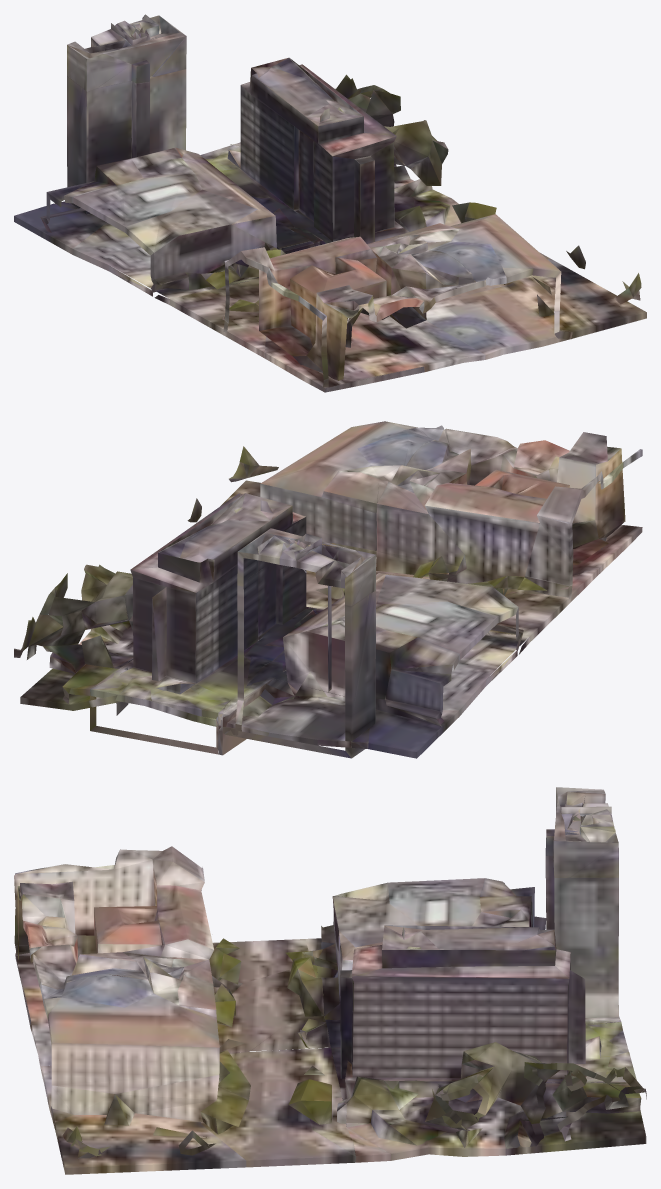
The picture shows the model from 3 angles, top to bottom: view 1: azimuth 30°, elevation 25°; view 2: azimuth 150°, elevation 25°; view 3: azimuth 270°, elevation 25°; orthographic projection. The views are drawn at different scales.
Parts seen in each view (by area): view 1: Mesh_0; view 2: Mesh_0; view 3: Mesh_0.
Part boxes in pixels (<box>): Mesh_0: <box>14,14,646,392</box>; Mesh_0: <box>14,421,642,758</box>; Mesh_0: <box>14,787,646,1174</box>.
Bounding box in the file's own units: 133 × 64.21 × 165.
Materials: 1 (1 with a texture image).
